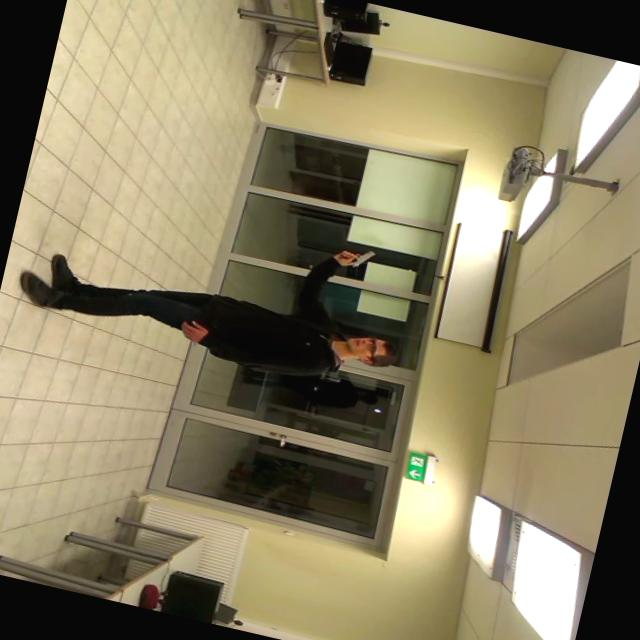handgun: (330, 232, 380, 272)
